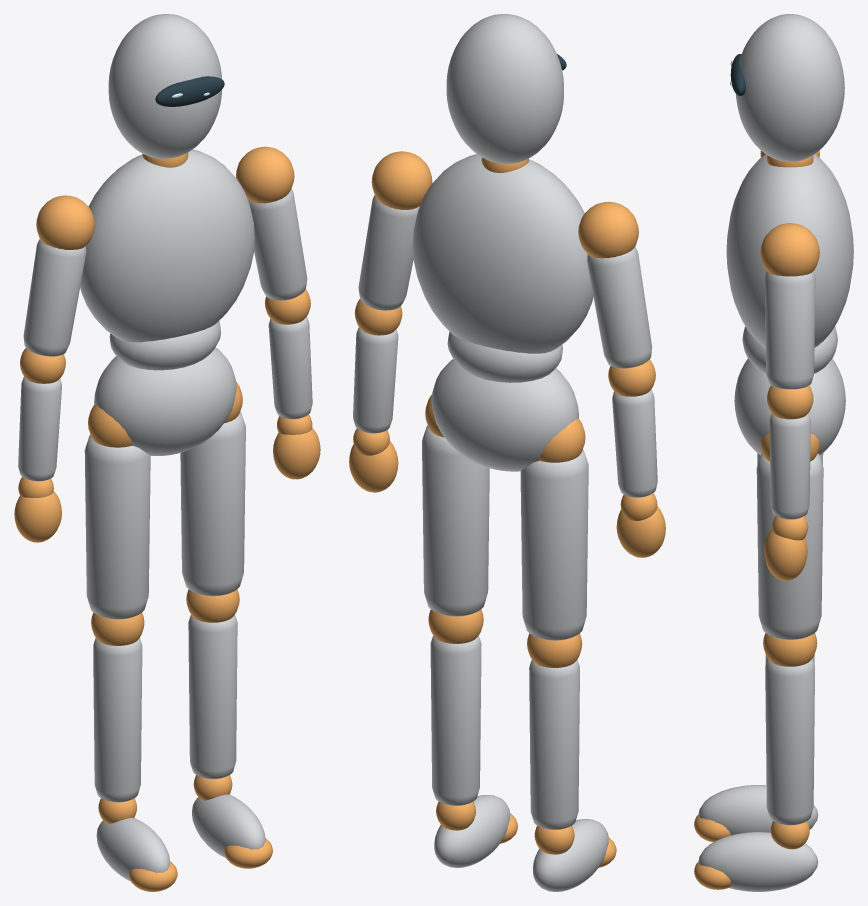
File: JointedMannequin.fbx
3 renders of one model, left to right at view 1: azimuth 30°, elevation 25°; view 2: azimuth 150°, elevation 25°; view 3: azimuth 270°, elevation 25°, orthographic. The views are drawn at different scales.
Parts seen in each view (by area): view 1: Chest, Head, Thigh_L, Thigh_R, Pelvis, Shin_R, Shin_L, UpperArm_L, UpperArm_R, Forearm_L, Forearm_R, Foot_L (+3 smaller); view 2: Chest, Head, Thigh_L, Thigh_R, Pelvis, Shin_R, Shin_L, UpperArm_L, UpperArm_R, Forearm_L, Forearm_R, Foot_L (+3 smaller); view 3: Chest, Head, Shin_R, UpperArm_R, Thigh_R, Foot_R, Forearm_R, Pelvis, Foot_L, Hand_R.
Boxes of the visible parts, x1,y1,x2,y2 form: Chest: (80, 149, 254, 370); Head: (108, 14, 224, 167); Thigh_L: (84, 404, 150, 619); Thigh_R: (180, 381, 245, 596); Pelvis: (94, 347, 236, 455); Shin_R: (186, 589, 239, 779); Shin_L: (91, 612, 144, 802); UpperArm_L: (23, 195, 94, 356); UpperArm_R: (236, 146, 307, 300); Forearm_L: (18, 348, 65, 481); Forearm_R: (265, 289, 312, 419); Foot_L: (96, 798, 177, 891); Chest: (412, 154, 593, 382); Head: (446, 14, 566, 172); Thigh_L: (520, 418, 588, 640); Thigh_R: (422, 394, 489, 616); Pelvis: (431, 359, 578, 471); Shin_R: (428, 609, 483, 805); Shin_L: (527, 633, 582, 829); UpperArm_L: (578, 201, 652, 368); UpperArm_R: (358, 151, 432, 310); Forearm_L: (608, 359, 657, 497); Forearm_R: (353, 299, 402, 433); Foot_L: (533, 819, 616, 891); Chest: (726, 154, 853, 373); Head: (730, 14, 844, 167); Shin_R: (763, 633, 817, 825); UpperArm_R: (760, 223, 819, 389); Thigh_R: (756, 434, 823, 639); Foot_R: (694, 821, 818, 891); Forearm_R: (767, 385, 813, 519); Pelvis: (734, 358, 845, 455); Foot_L: (694, 785, 818, 842); Hand_R: (764, 516, 808, 580).
Bounding box in the file's own units: 0.664 × 1.76 × 0.301.
